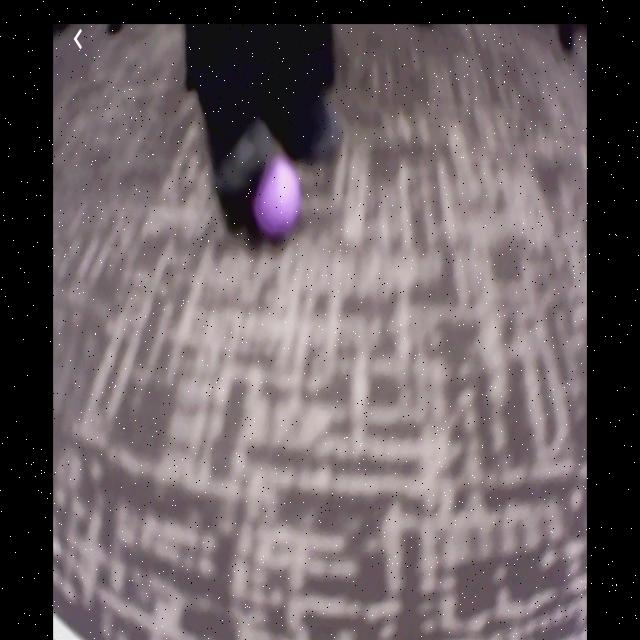ball: (252, 153, 303, 240)
